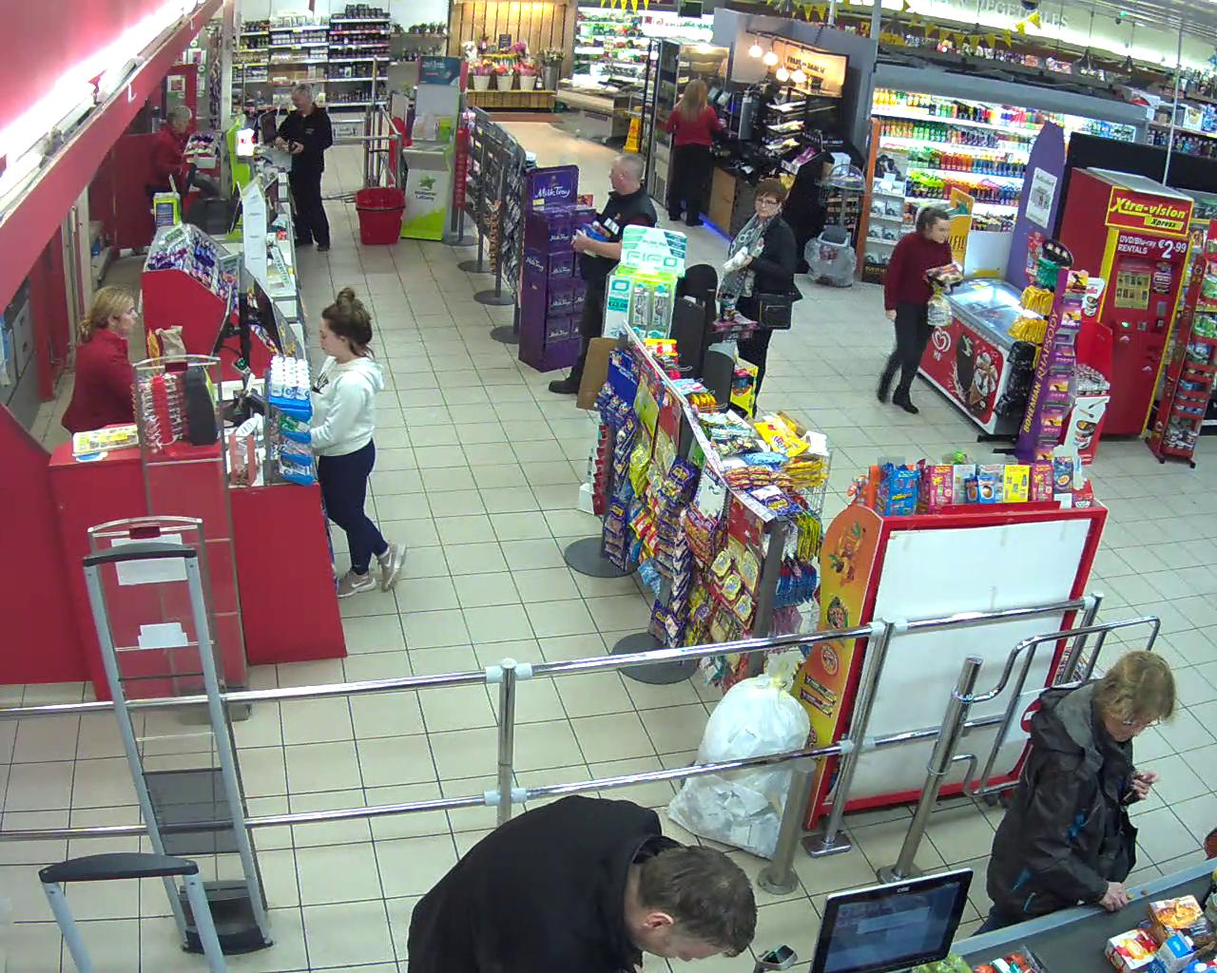backpack-or-handbag: (753, 291, 793, 331)
carrying-item: (923, 262, 964, 327)
occupied-checkout-counter: (59, 268, 283, 426), (144, 103, 286, 181)
person: (720, 178, 797, 398), (876, 206, 953, 413)
person with carrying item-s- and shopping bag-s-: (876, 206, 964, 415)
person-with-backpack-handbag: (720, 177, 799, 399)
vacant-checkout-counter: (137, 181, 282, 264)
